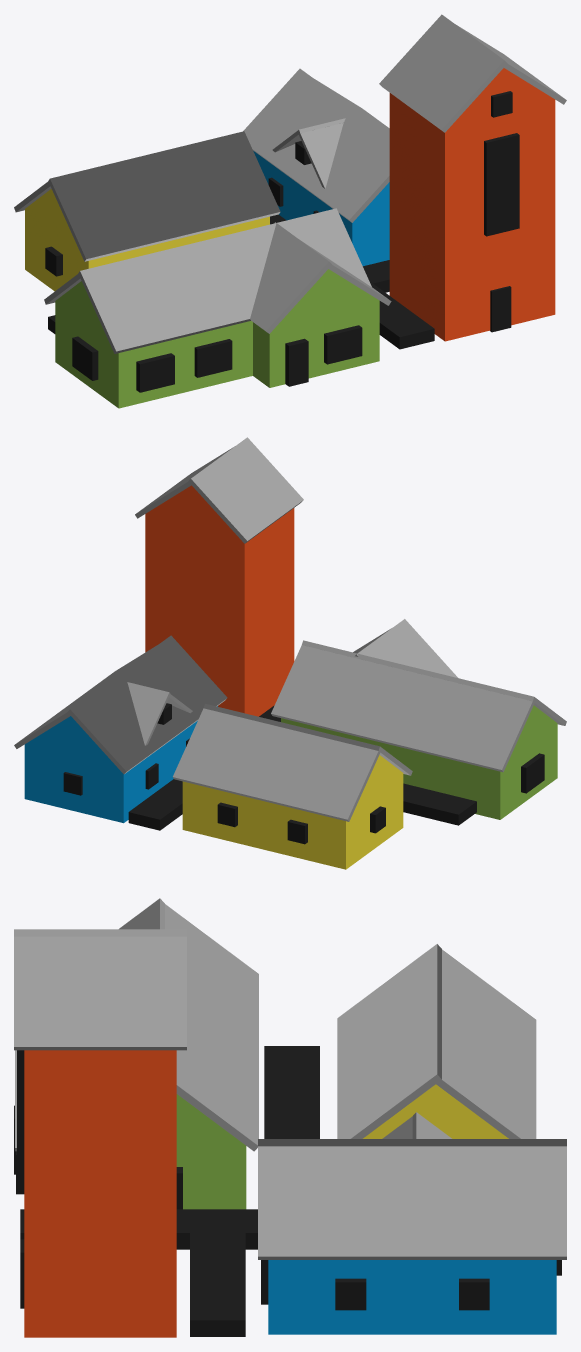
Rendered from scene_Kgo4lkGDQC.glb.
3 views of the same model, one above another, from view 1: azimuth 30°, elevation 25°; view 2: azimuth 150°, elevation 25°; view 3: azimuth 270°, elevation 25° (orthographic). The views are drawn at different scales.
Parts seen in each view (by area): view 1: group1957476374, group777679980, group1184463303, group1981108183, group1224864500, group622405046, group286908805, group1333885264, group775234044, group172161205, group387551679, group589860381 (+8 smaller); view 2: group777679980, group1957476374, group1981108183, group1509111848, group1224864500, group286908805, group1333885264, group177153513, group172161205, group1184463303, group654277755, group1134373055; view 3: group1981108183, group1957476374, group777679980, group1134373055, group1509111848, group318895703, group1224864500, group177153513, group172161205, group286908805, group775234044, group1184463303.
Boxes of the visible parts, x1,y1,x2,y2 form: group1957476374: (389, 68, 555, 341); group777679980: (14, 131, 280, 291); group1184463303: (78, 208, 371, 353); group1981108183: (243, 68, 389, 266); group1224864500: (55, 281, 252, 408); group622405046: (253, 269, 379, 387); group286908805: (379, 14, 507, 132); group1333885264: (250, 222, 331, 333); group775234044: (484, 133, 519, 236); group172161205: (270, 214, 434, 349); group387551679: (136, 353, 174, 392); group589860381: (324, 325, 362, 364); group777679980: (173, 703, 412, 869); group1957476374: (145, 485, 294, 716); group1981108183: (14, 635, 227, 823); group1509111848: (271, 645, 534, 772); group1224864500: (281, 705, 557, 819); group286908805: (188, 437, 303, 543); group1333885264: (355, 619, 457, 677); group177153513: (403, 783, 476, 825); group172161205: (128, 705, 280, 830); group1184463303: (302, 640, 566, 725); group654277755: (521, 753, 544, 793); group1134373055: (135, 446, 234, 518); group1981108183: (258, 1112, 566, 1334); group1957476374: (24, 1050, 176, 1337); group777679980: (337, 944, 536, 1138); group1134373055: (14, 936, 186, 1050); group1509111848: (165, 904, 258, 1151); group318895703: (190, 1218, 245, 1336); group1224864500: (176, 1094, 246, 1209); group177153513: (264, 1046, 319, 1138); group172161205: (20, 1209, 257, 1249); group286908805: (14, 929, 186, 936); group775234044: (17, 1050, 24, 1177); group1184463303: (119, 898, 164, 929).
Bounding box in the file's own units: 1.12 × 0.6744 × 0.895.
